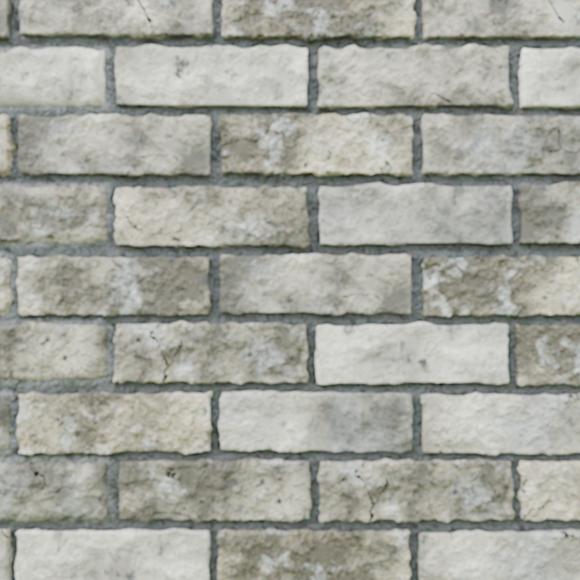brick: (318, 44, 512, 108), (119, 458, 311, 521), (318, 459, 513, 521), (114, 186, 309, 248), (17, 392, 211, 454), (113, 321, 307, 383), (18, 114, 210, 176), (319, 183, 511, 245), (115, 45, 306, 107), (220, 253, 410, 315), (218, 114, 411, 175), (219, 391, 412, 452), (16, 256, 209, 316), (315, 323, 507, 383), (217, 528, 410, 579), (15, 529, 209, 579), (421, 393, 579, 454), (421, 115, 579, 175), (422, 256, 579, 316), (418, 530, 579, 579), (222, 0, 415, 40), (19, 0, 212, 38), (0, 320, 108, 380), (0, 46, 105, 106), (422, 0, 579, 38), (514, 325, 579, 384), (519, 48, 579, 108), (518, 183, 579, 242), (518, 461, 579, 519), (0, 257, 13, 315), (0, 115, 11, 175), (0, 394, 11, 450), (115, 220, 138, 244), (0, 533, 10, 579), (0, 0, 8, 39), (566, 529, 579, 535), (4, 530, 10, 534)
broken_brick: (0, 460, 108, 521), (0, 184, 107, 245)
crack: (354, 468, 390, 522), (149, 329, 184, 383), (114, 204, 144, 245), (41, 277, 67, 314), (0, 527, 14, 579), (522, 498, 553, 519), (153, 511, 199, 522), (547, 0, 564, 24), (9, 121, 19, 161), (136, 0, 152, 23), (6, 0, 14, 40), (521, 478, 541, 494), (559, 530, 579, 542), (563, 393, 579, 406), (404, 409, 412, 416), (503, 0, 507, 4)
